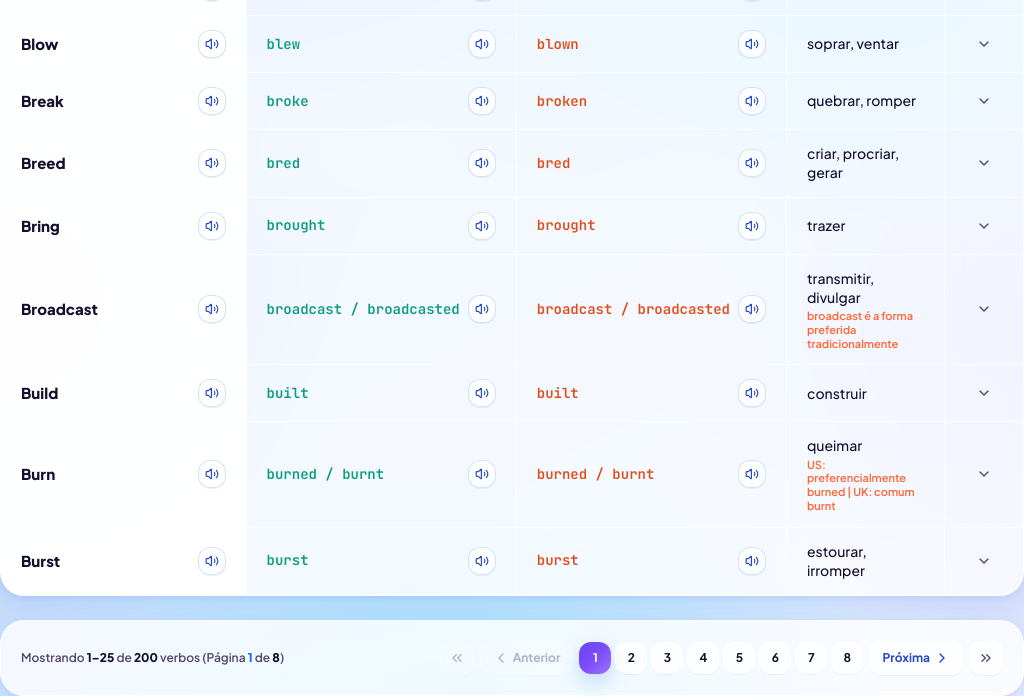
Irregular Verbs 200 Database and Pagination Tests › searches across all 200 verbs regardless of current page and resets to page 1
(page scrolled)
# Go to page 3 first
Click the button named "Ir para a página 3" at (667, 658), box [651,642,683,674]
(page scrolled)
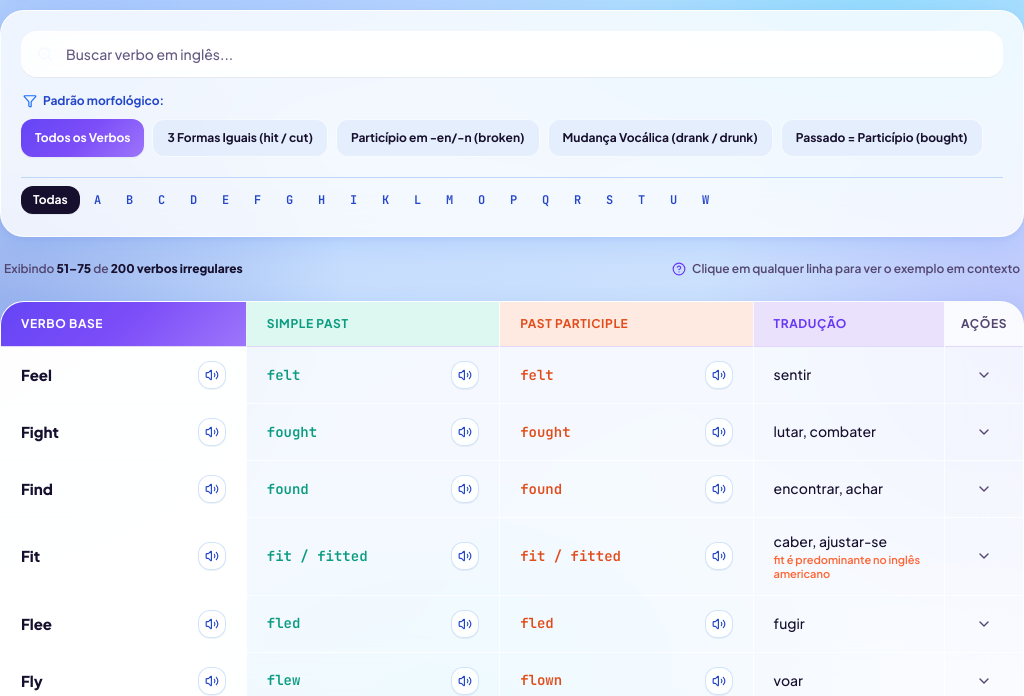
Now the text "51–75" is shown, box [57,261,91,276]
# Search for 'write' (which starts with 'w' and is near the end of alphabet)
Type "write" into the search field with placeholder "Buscar verbo em inglês..." at (512, 54), box [21,31,1003,77]
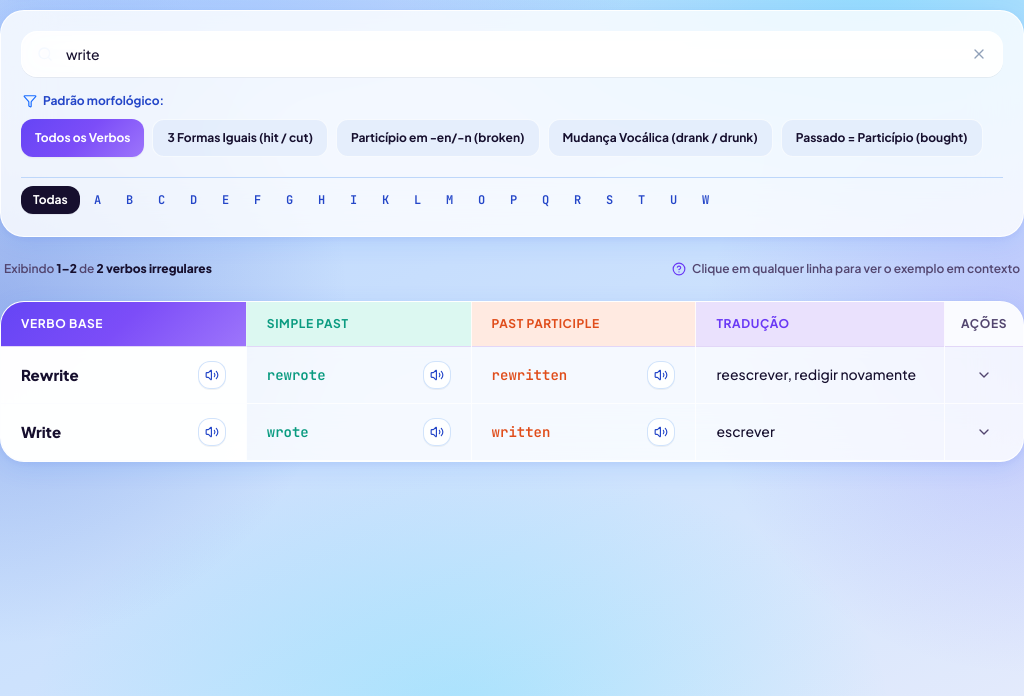
Expected: the text "Exibindo 1–2 de 2 verbos irregulares" is shown, [4,261,212,277]
Now the text "write" is shown, box [21,422,61,442]
